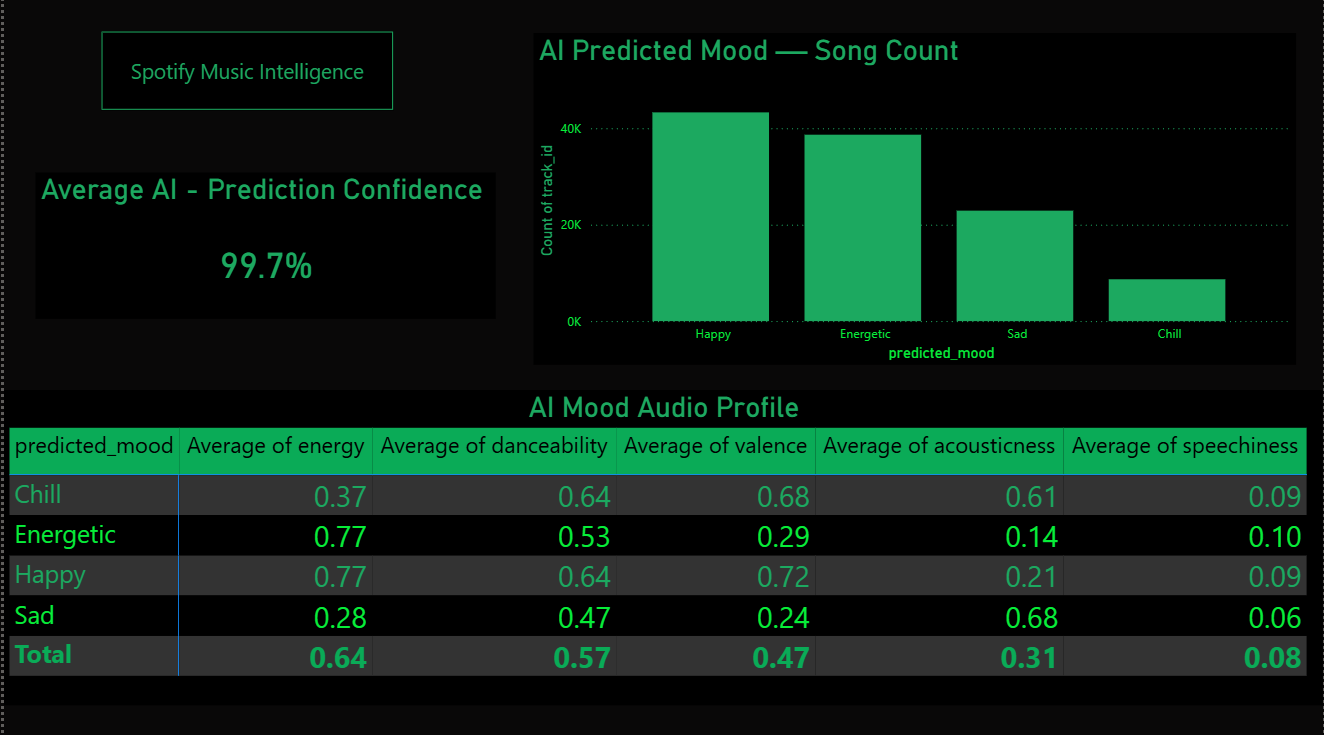

The dashboard page shown, as its layout file describes it:
{"tool":"powerbi","page":{"name":"AI Mood Intelligence","canvas":[1280,720],"ordinal":2},"visuals":[{"type":"card","title":"Average AI - Prediction Confidence","fields":{"Values":["Avg(spotify_mood_prediction.prediction_confidence)"]},"box":[30,173.3,446.7,141.7],"z":0},{"type":"clusteredColumnChart","title":"AI Predicted Mood — Song Count","fields":{"Category":["spotify_mood_prediction.predicted_mood"],"Y":["CountNonNull(spotify_mood_prediction.track_id)"]},"box":[513.3,37.2,740,322.2],"z":1000},{"type":"pivotTable","title":"AI Mood Audio Profile","fields":{"Rows":["spotify_mood_prediction.predicted_mood"],"Values":["Avg(spotify_mood_prediction.energy)","Avg(spotify_mood_prediction.danceability)","Avg(spotify_mood_prediction.valence)","Avg(spotify_mood_prediction.acousticness)","Avg(spotify_mood_prediction.speechiness)"]},"box":[0,383.8,1280.8,306],"z":2000},{"type":"pageNavigator","box":[95,36.7,283.3,76.7],"z":3000}]}

Visuals, with their boxes in screenshot pixels (x1, y1, x2, y2), scaled from the page's 1280x720 canvas onto the 1324x735 screenshot:
"Average AI - Prediction Confidence" card: [left=31, top=177, right=493, bottom=322]
"AI Predicted Mood — Song Count" clusteredColumnChart: [left=531, top=38, right=1296, bottom=367]
"AI Mood Audio Profile" pivotTable: [left=0, top=392, right=1323, bottom=704]
pageNavigator: [left=98, top=37, right=391, bottom=116]
